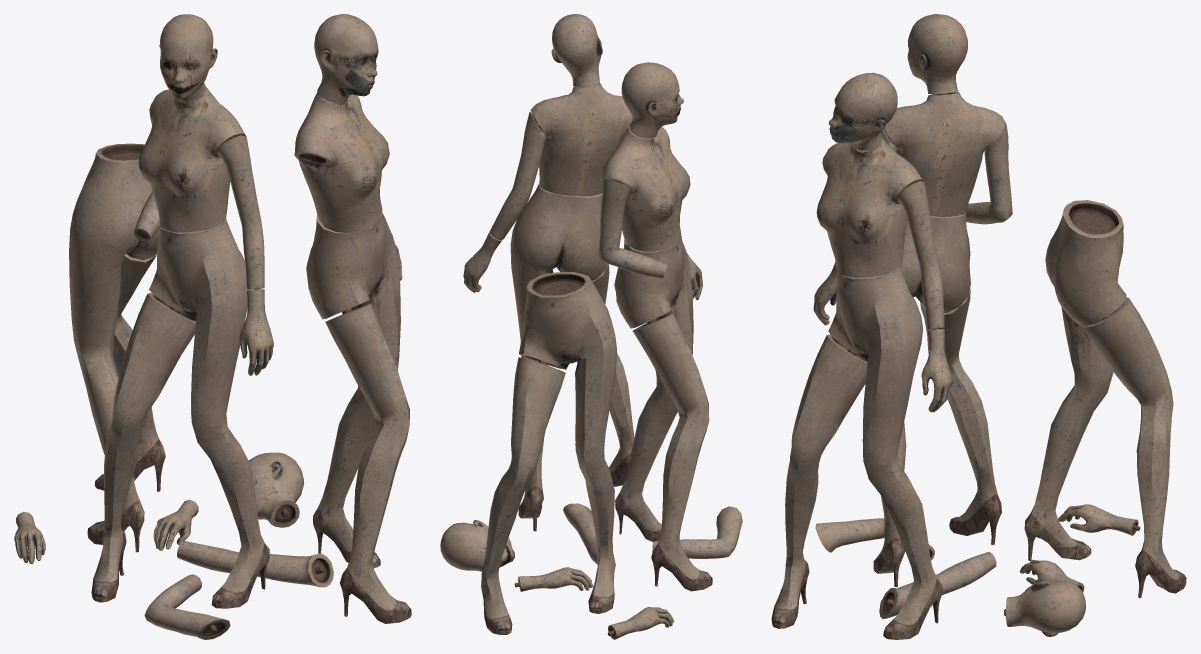
File: mannequins.glb
The picture shows the model from 3 angles, left to right: view 1: azimuth 30°, elevation 25°; view 2: azimuth 150°, elevation 25°; view 3: azimuth 270°, elevation 25°; orthographic projection. The views are drawn at different scales.
Visible parts, largest first — view 1: Object_2; view 2: Object_2; view 3: Object_2.
Part boxes in pixels (x1=…): Object_2: x1=14, y1=14, x2=411, y2=639; Object_2: x1=440, y1=14, x2=742, y2=639; Object_2: x1=771, y1=14, x2=1186, y2=639.
Size of the model in its own units: 1.41 by 2.5 by 1.71.
Materials: 1 (1 with a texture image).
